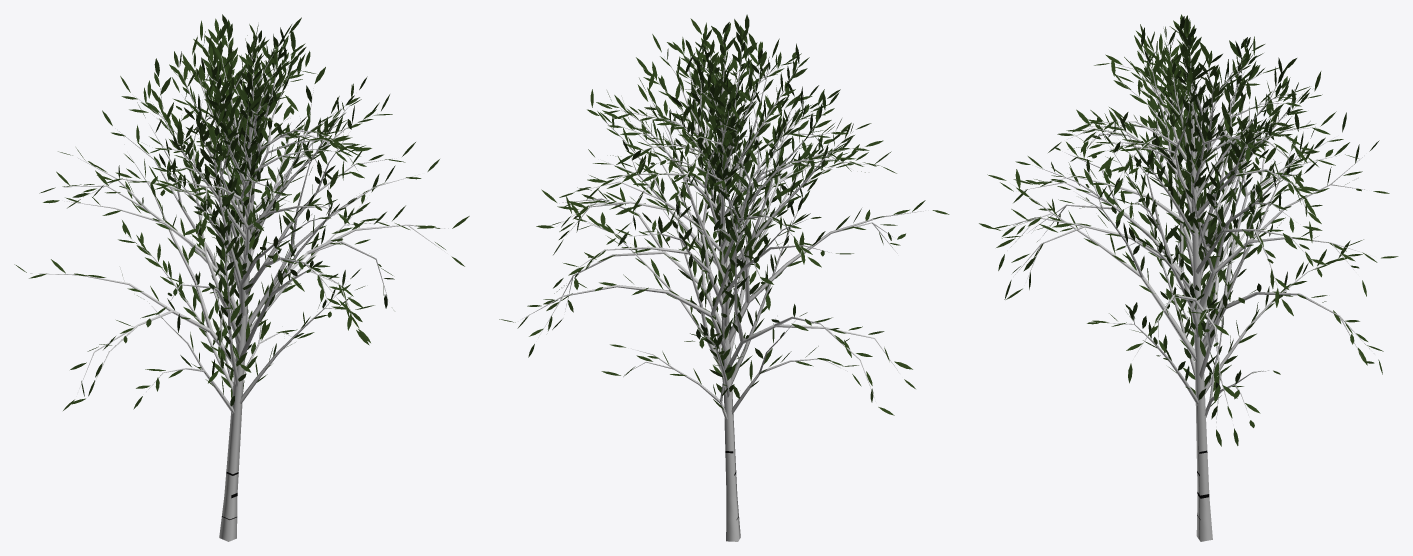
The model's file is tree1.fbx.
3 renders of one model, left to right at view 1: azimuth 30°, elevation 25°; view 2: azimuth 150°, elevation 25°; view 3: azimuth 270°, elevation 25°, orthographic. The views are drawn at different scales.
Parts seen in each view (by area): view 1: leaves, tree; view 2: leaves, tree; view 3: leaves, tree.
Part boxes in pixels (x1,y1,x2,y2): leaves: [14, 14, 469, 410]; tree: [30, 40, 448, 541]; leaves: [499, 14, 949, 415]; tree: [522, 34, 928, 541]; leaves: [979, 14, 1398, 446]; tree: [1007, 36, 1374, 541].
Bounding box in the file's own units: 1153 × 1458 × 1051.
